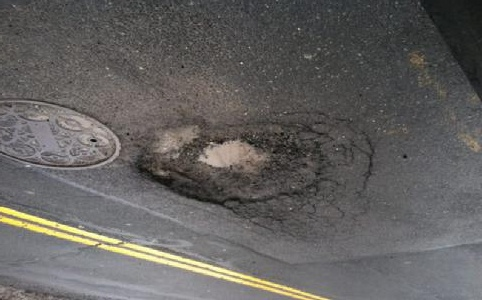pothole: (137, 121, 331, 208)
